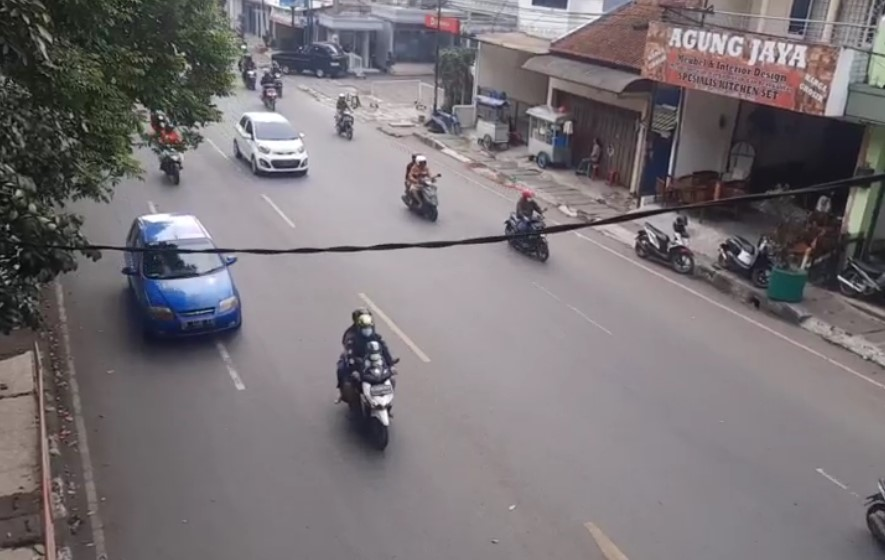mobil: (116, 214, 254, 340), (234, 111, 314, 178)
motor: (331, 314, 402, 452), (505, 185, 554, 262), (400, 153, 442, 216), (332, 91, 358, 137)
